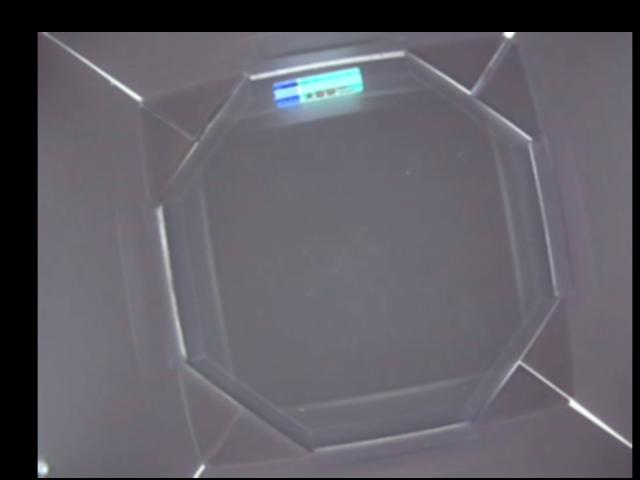Battery: (271, 67, 362, 101)
